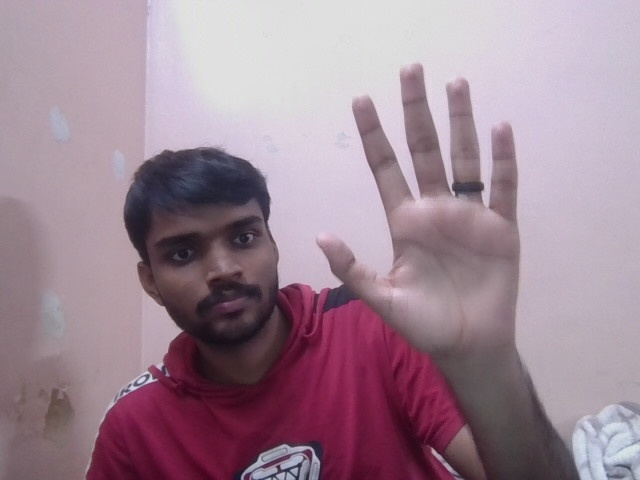Hello: (313, 61, 550, 354)
